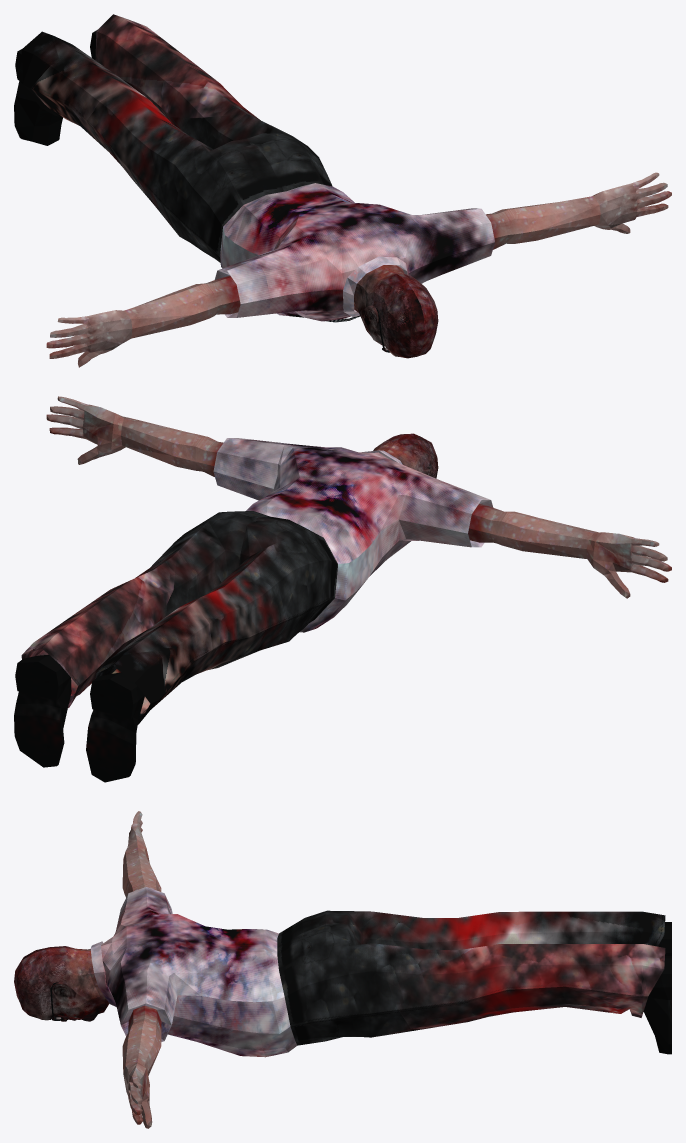
Rendered from tomdrinman2_3kslimed_wtf.obj.
The picture shows the model from 3 angles, top to bottom: view 1: azimuth 30°, elevation 25°; view 2: azimuth 150°, elevation 25°; view 3: azimuth 270°, elevation 25°; orthographic projection. The views are drawn at different scales.
Parts seen in each view (by area): view 1: group1; view 2: group1; view 3: group1.
Part boxes in pixels (x1,y1,x2,y2): group1: (14,14,671,367); group1: (14,396,671,782); group1: (14,811,671,1128).
Size of the model in its own units: 660 by 141 by 641.
